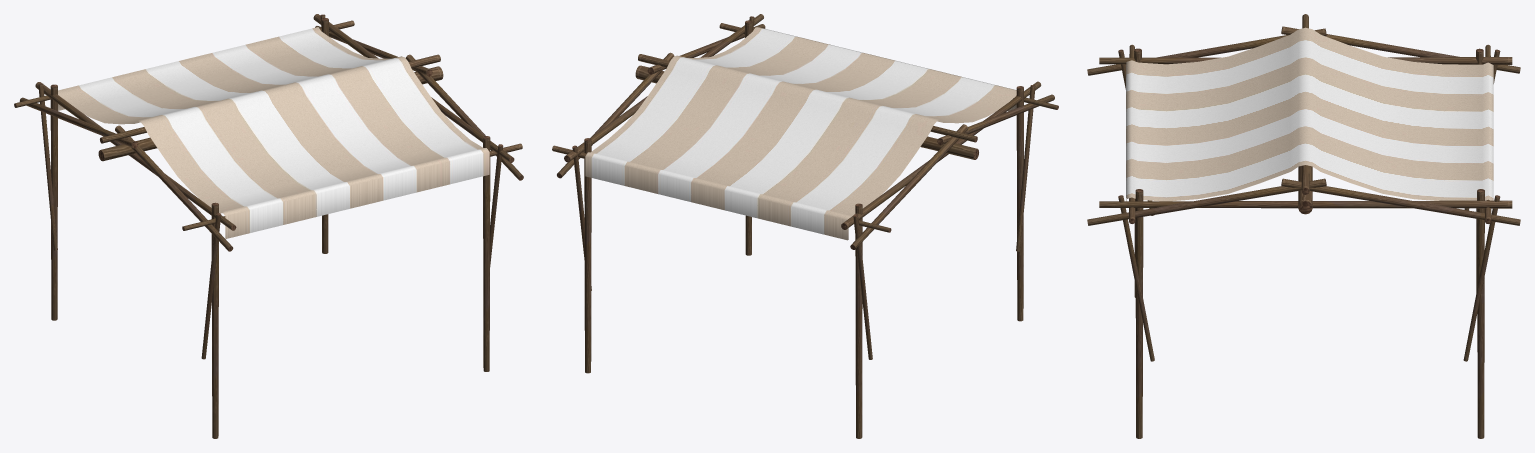
File: tent001.fbx
The picture shows the model from 3 angles, left to right: view 1: azimuth 30°, elevation 25°; view 2: azimuth 150°, elevation 25°; view 3: azimuth 270°, elevation 25°; orthographic projection. The views are drawn at different scales.
Visible parts, largest first — view 1: tent001; view 2: tent001; view 3: tent001.
Part boxes in pixels (x1,y1,x2,y2): tent001: [14, 14, 523, 438]; tent001: [552, 14, 1058, 438]; tent001: [1087, 14, 1520, 438].
Bounding box in the file's own units: 105 × 76.34 × 110.
